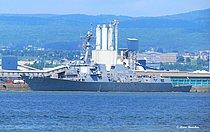MIL_Ship: (21, 33, 192, 92)
